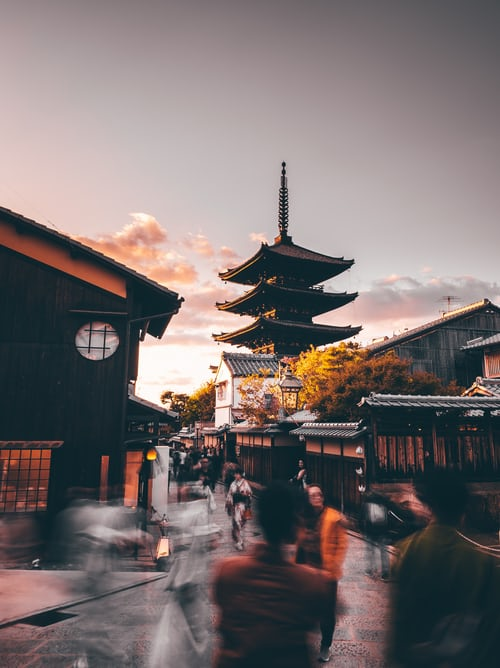Temple: (205, 175, 376, 438)
